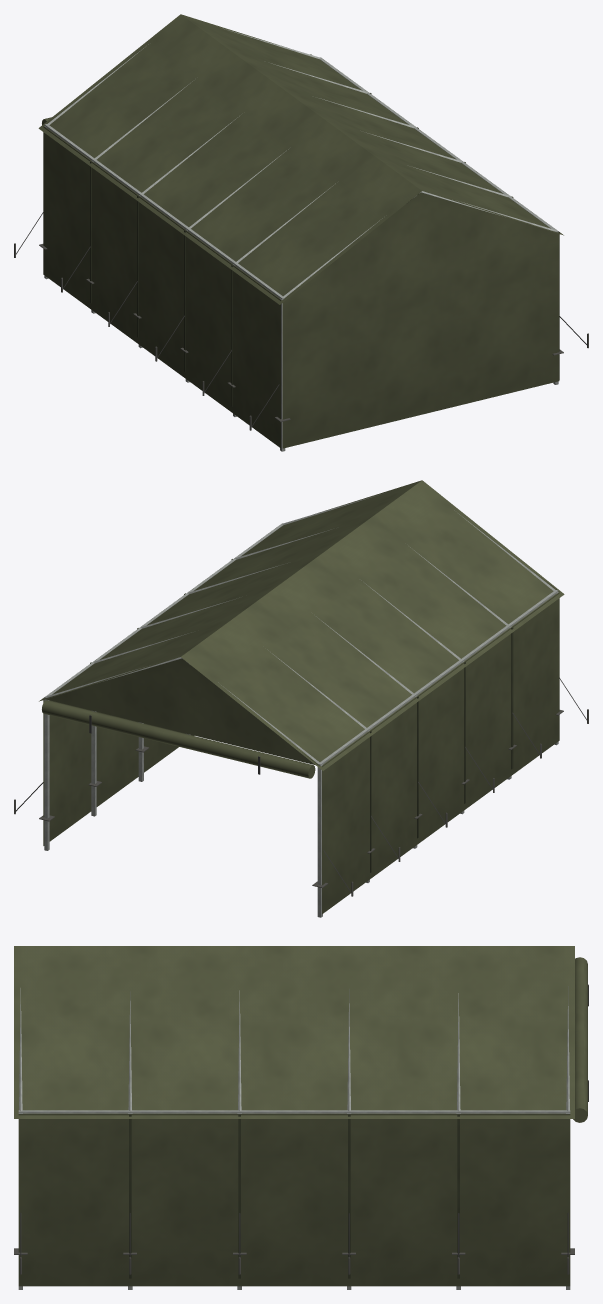
Rendered from vehicle_shelter.glb.
The picture shows the model from 3 angles, top to bottom: view 1: azimuth 30°, elevation 25°; view 2: azimuth 150°, elevation 25°; view 3: azimuth 270°, elevation 25°; orthographic projection. The views are drawn at different scales.
Visible parts, largest first — view 1: vehicle_shelter; view 2: vehicle_shelter; view 3: vehicle_shelter.
Part boxes in pixels (<box>): vehicle_shelter: <box>14,14,588,451</box>; vehicle_shelter: <box>14,480,588,917</box>; vehicle_shelter: <box>14,946,588,1289</box>.
Size of the model in its own units: 10.05 by 6.47 by 12.71.
Materials: 7 (4 with a texture image).
